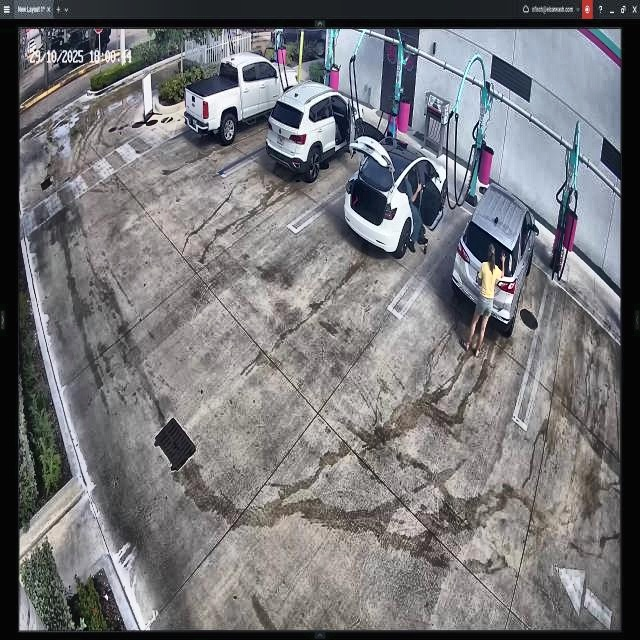Car: (453, 182, 538, 338), (342, 136, 448, 258), (264, 80, 364, 180)
